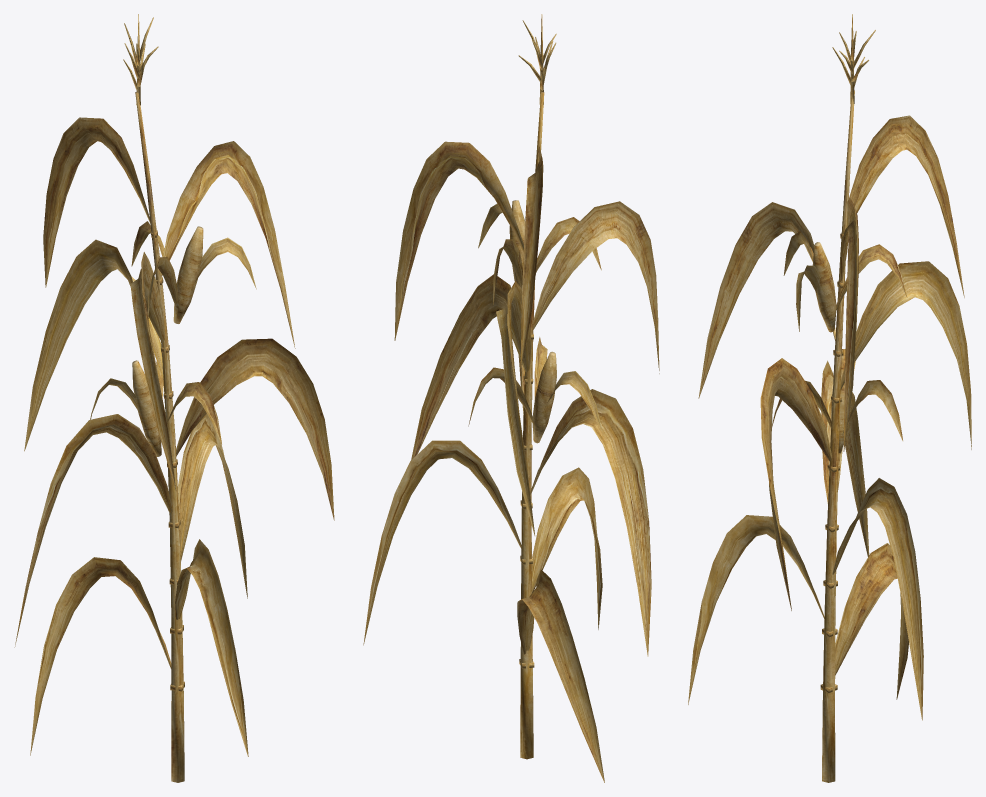
File: Corn_C_Near.fbx
3 renders of one model, left to right at view 1: azimuth 30°, elevation 25°; view 2: azimuth 150°, elevation 25°; view 3: azimuth 270°, elevation 25°, orthographic.
Visible parts, largest first — view 1: Corn_C_Near; view 2: Corn_C_Near; view 3: Corn_C_Near.
Boxes of the visible parts, x1,y1,x2,y2 form: Corn_C_Near: (14, 14, 334, 782); Corn_C_Near: (363, 14, 659, 782); Corn_C_Near: (688, 14, 971, 782).
Size of the model in its own units: 3.08 by 8 by 2.74.
1 material, 1 textured.
